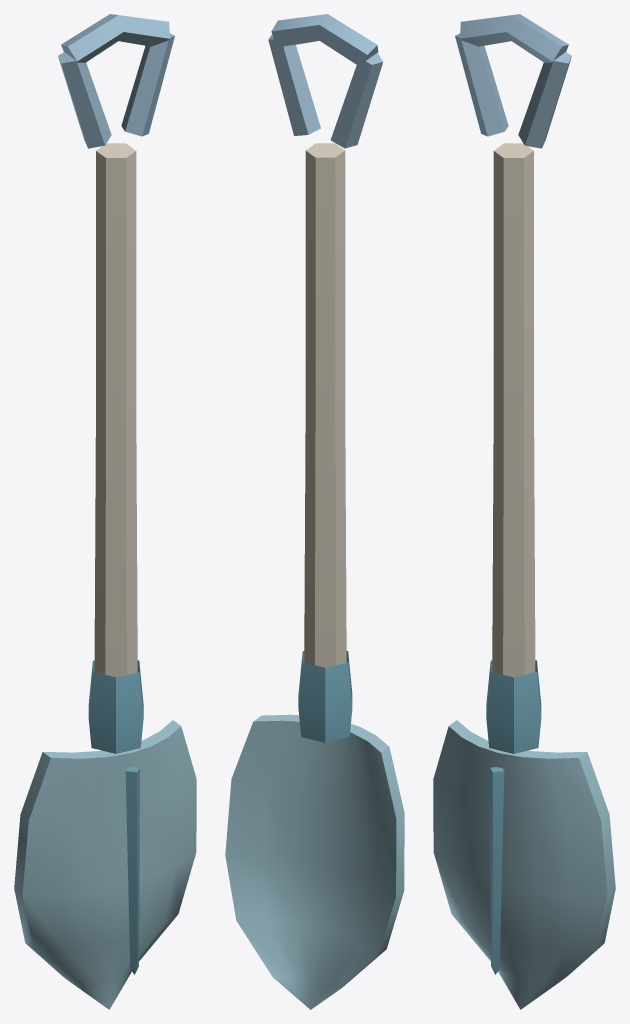
Rendered from shovel-4.glb.
3 views of the same model, side by side, from view 1: azimuth 30°, elevation 25°; view 2: azimuth 150°, elevation 25°; view 3: azimuth 330°, elevation 25° (orthographic).
Visible parts, largest first — view 1: shovel-4; view 2: shovel-4; view 3: shovel-4.
Part boxes in pixels (<box>): shovel-4: <box>14,14,196,1009</box>; shovel-4: <box>225,14,404,1009</box>; shovel-4: <box>433,14,615,1009</box>.
Size of the model in its own units: 0.12 by 0.6606 by 0.051.
